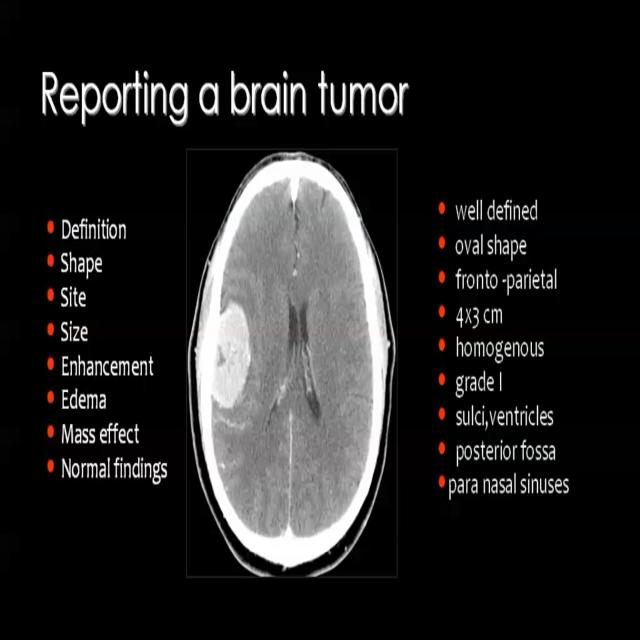Tumor: (214, 310, 248, 404)
